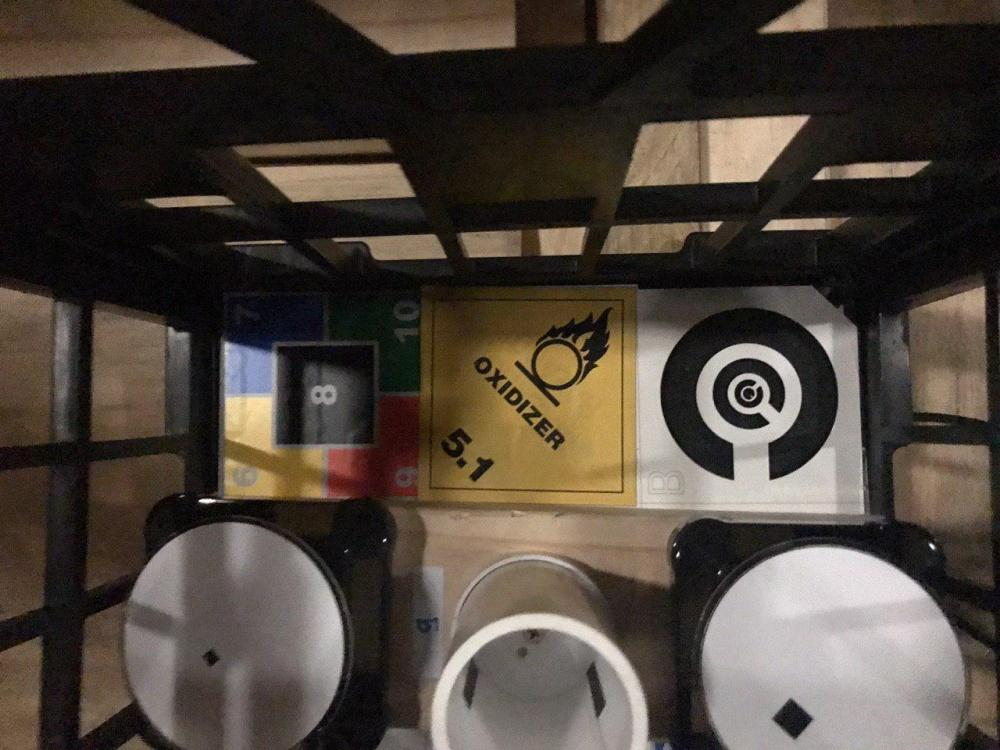oxidizer: (419, 287, 636, 501)
